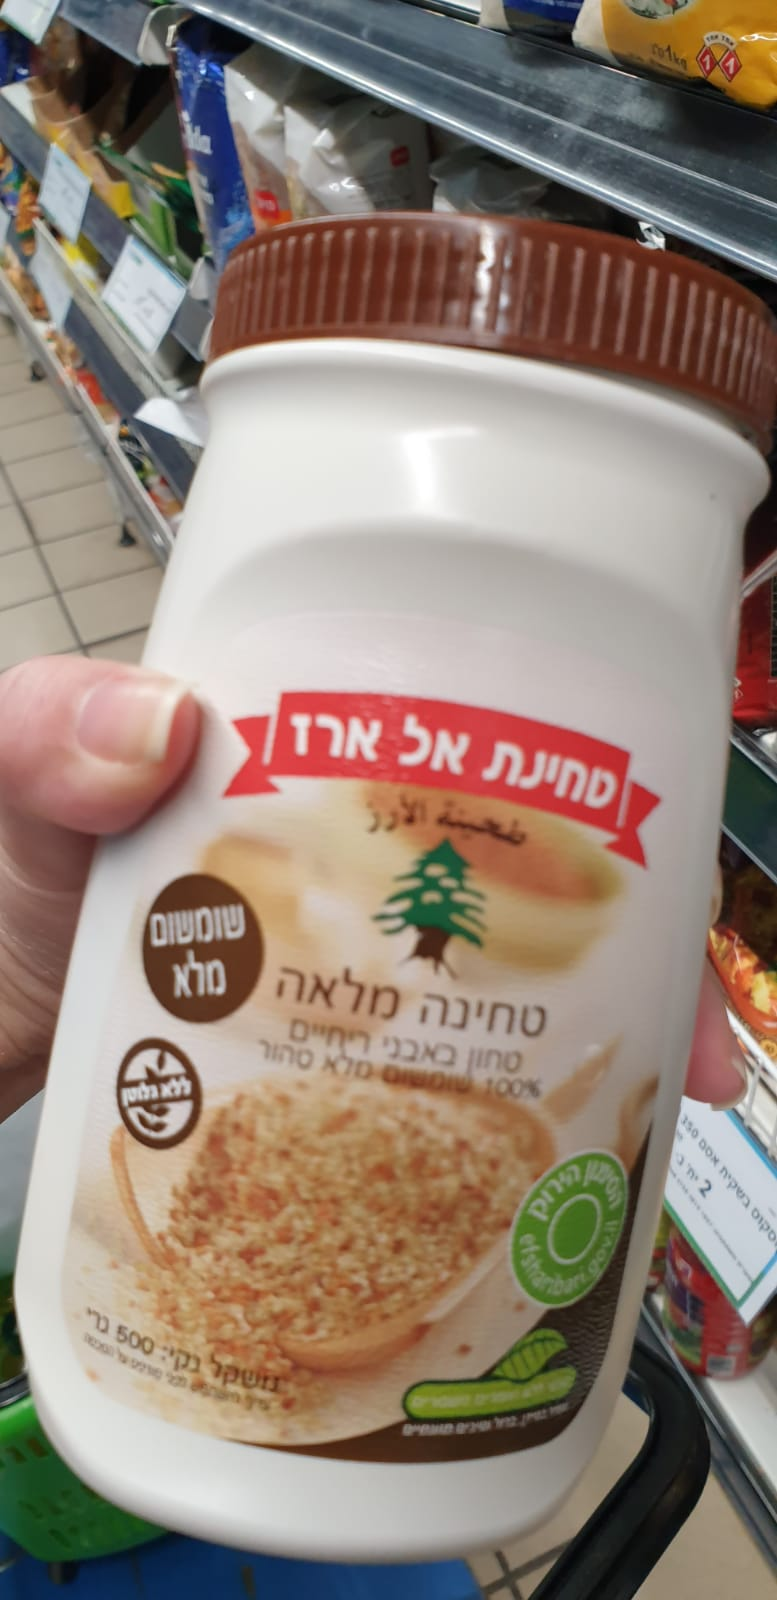green: (509, 1145, 630, 1306)
